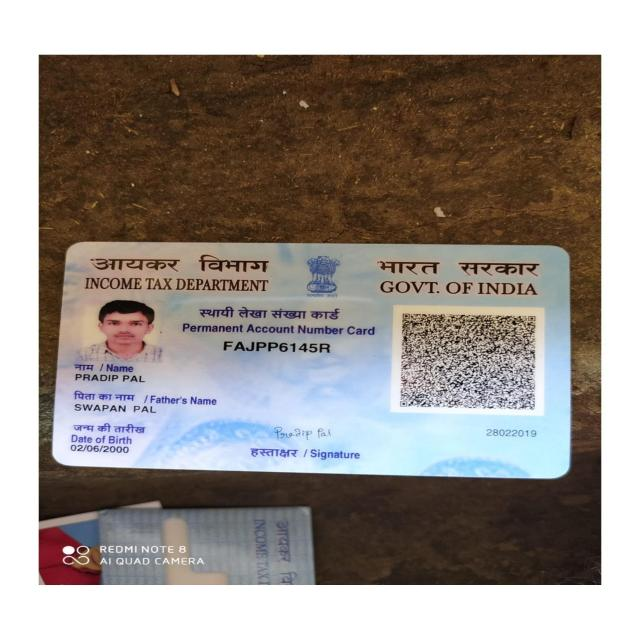pan_card: (57, 245, 555, 471)
